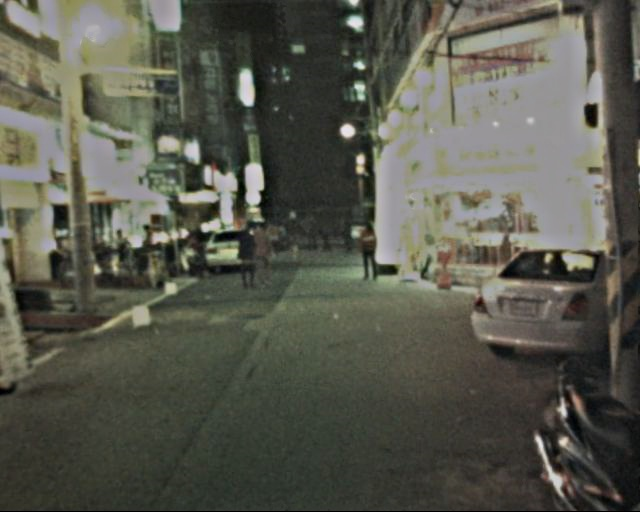person: (247, 223, 279, 292), (233, 226, 263, 294), (354, 224, 383, 287), (278, 209, 302, 264), (300, 216, 316, 255), (337, 221, 353, 257), (316, 221, 329, 255)
